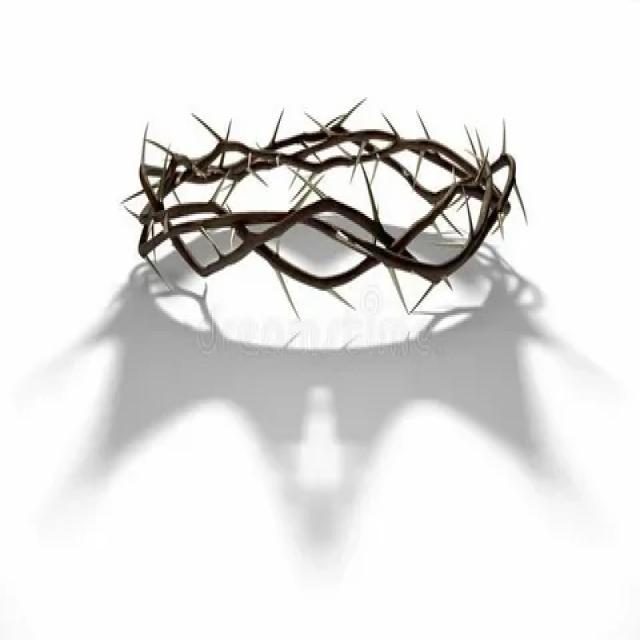crown: (121, 68, 528, 320)
